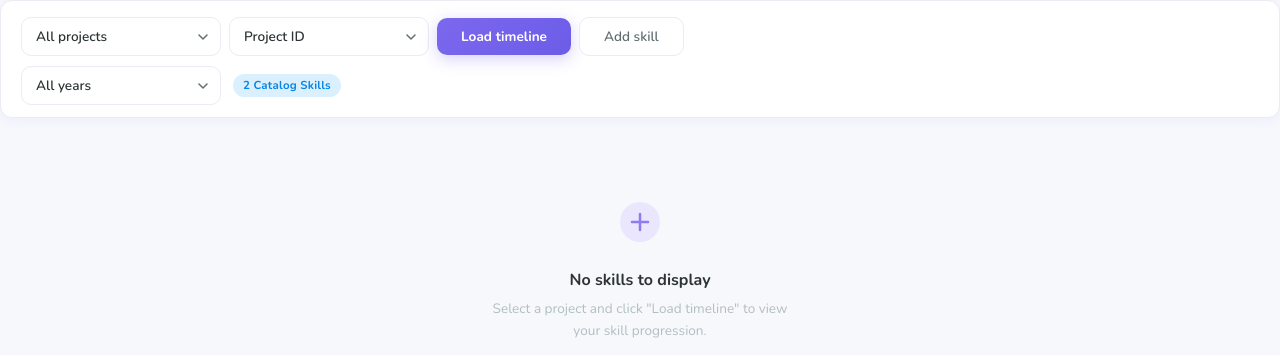
Test: SkillsTimeline › shows inline error and keeps controls available when timeline request fails
expect the button "Load timeline" is enabled: met, box [437,18,571,55]
Select "Alpha (ziphash0)" in the dropdown named "Project selector" at [121, 36], box [21,17,221,56]
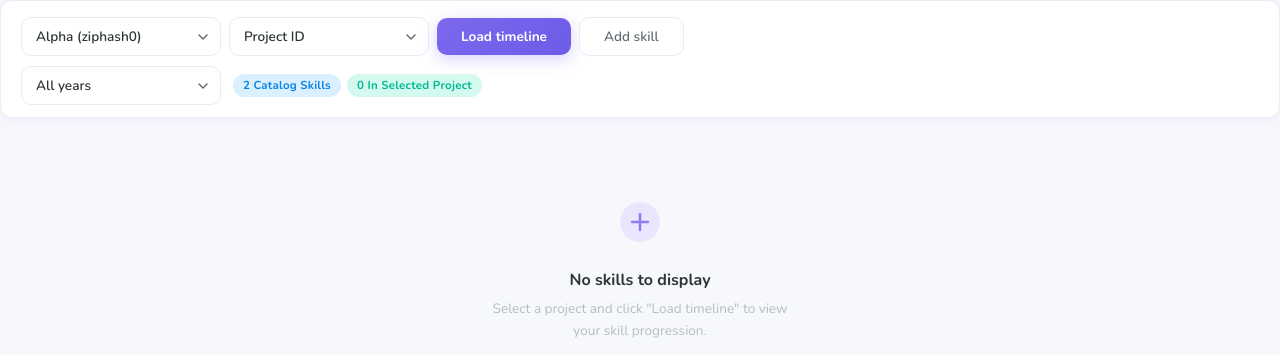
Click the button "Load timeline".
click(504, 36)  # box [437,18,571,55]
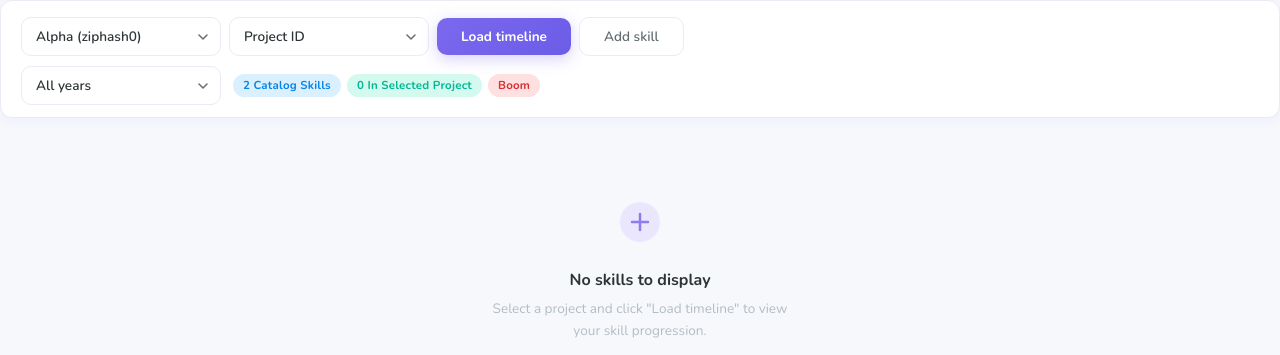
expect the text "boom" is shown: met, box [488,74,540,97]
